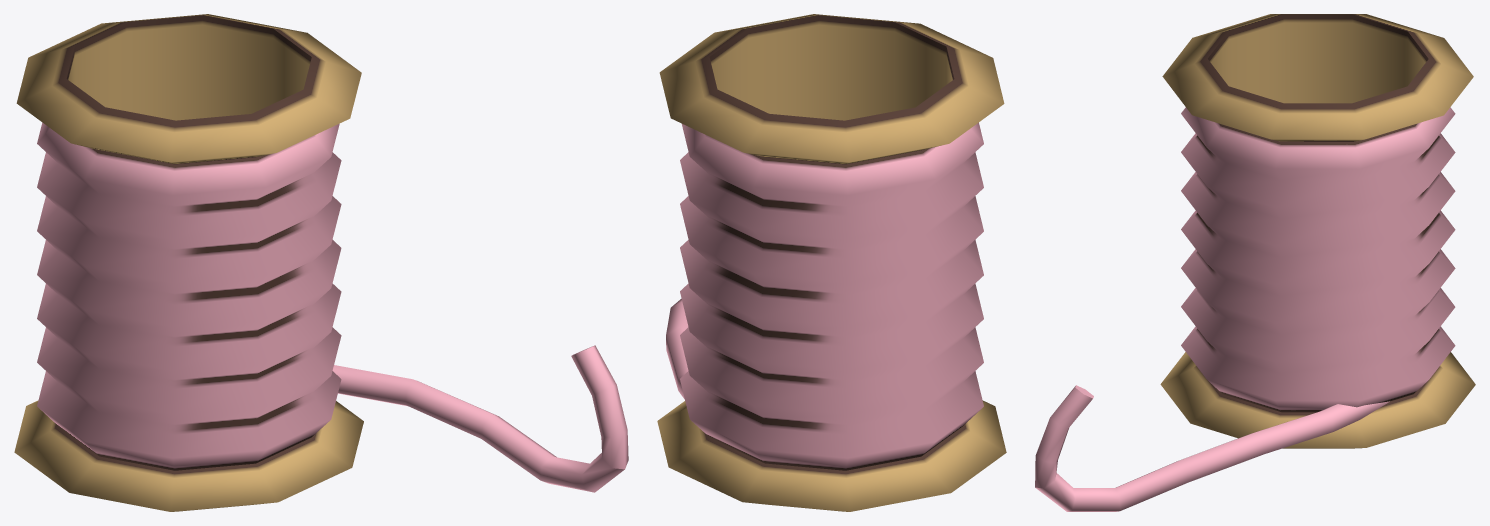
File: FireHose.fbx
3 renders of one model, left to right at view 1: azimuth 30°, elevation 25°; view 2: azimuth 150°, elevation 25°; view 3: azimuth 270°, elevation 25°, orthographic. The views are drawn at different scales.
Visible parts, largest first — view 1: Fire_Hose1; view 2: Fire_Hose1; view 3: Fire_Hose1.
Boxes of the visible parts, box(x1,y1,x2,y2) form: Fire_Hose1: box(14, 14, 628, 511); Fire_Hose1: box(657, 14, 1006, 511); Fire_Hose1: box(1035, 14, 1475, 511).
Bounding box in the file's own units: 32.12 × 27.95 × 32.2.
